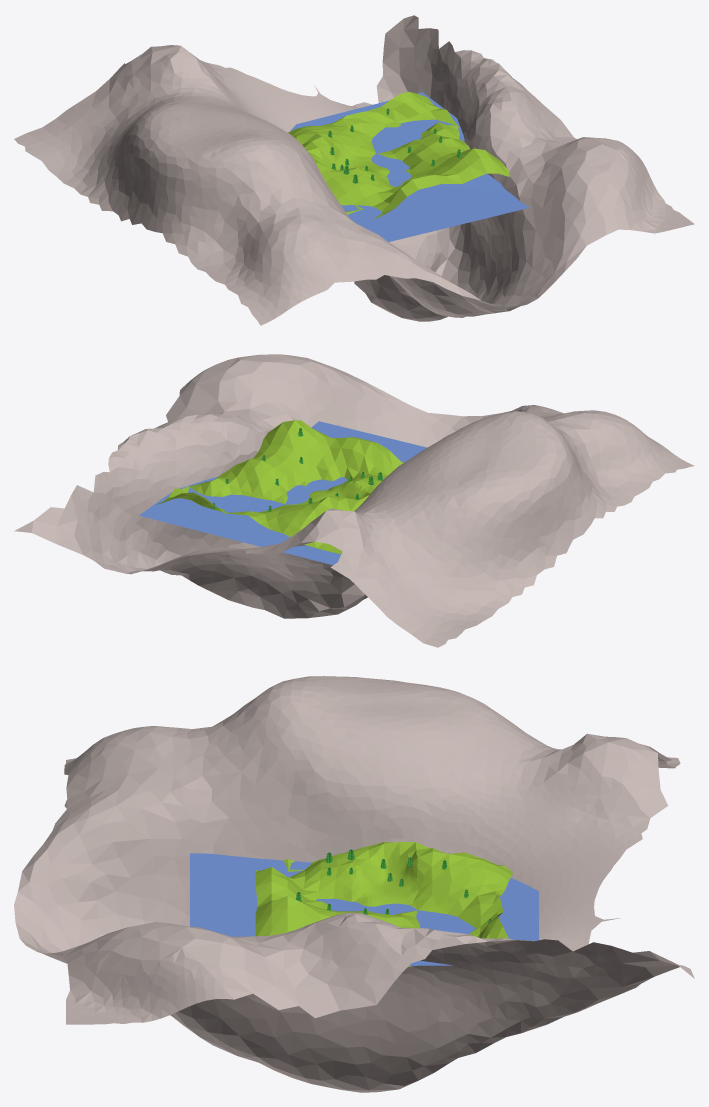
The model's file is terrain.dae.
3 renders of one model, top to bottom at view 1: azimuth 30°, elevation 25°; view 2: azimuth 150°, elevation 25°; view 3: azimuth 270°, elevation 25°, orthographic. The views are drawn at different scales.
Visible parts, largest first — view 1: Plane; view 2: Plane; view 3: Plane.
Boxes of the visible parts, <box> form: Plane: <box>14,15,694,325</box>; Plane: <box>14,354,694,647</box>; Plane: <box>14,676,694,1092</box>.
Bounding box in the file's own units: 95.52 × 104 × 47.03.
